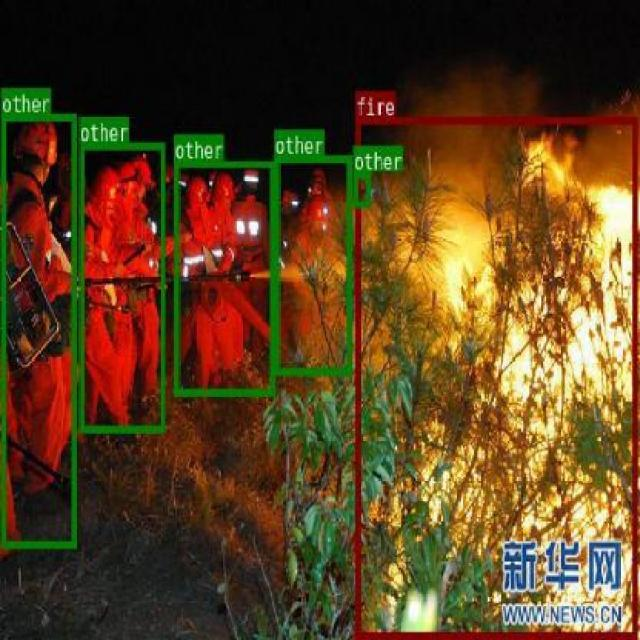fire: (354, 115, 636, 637)
